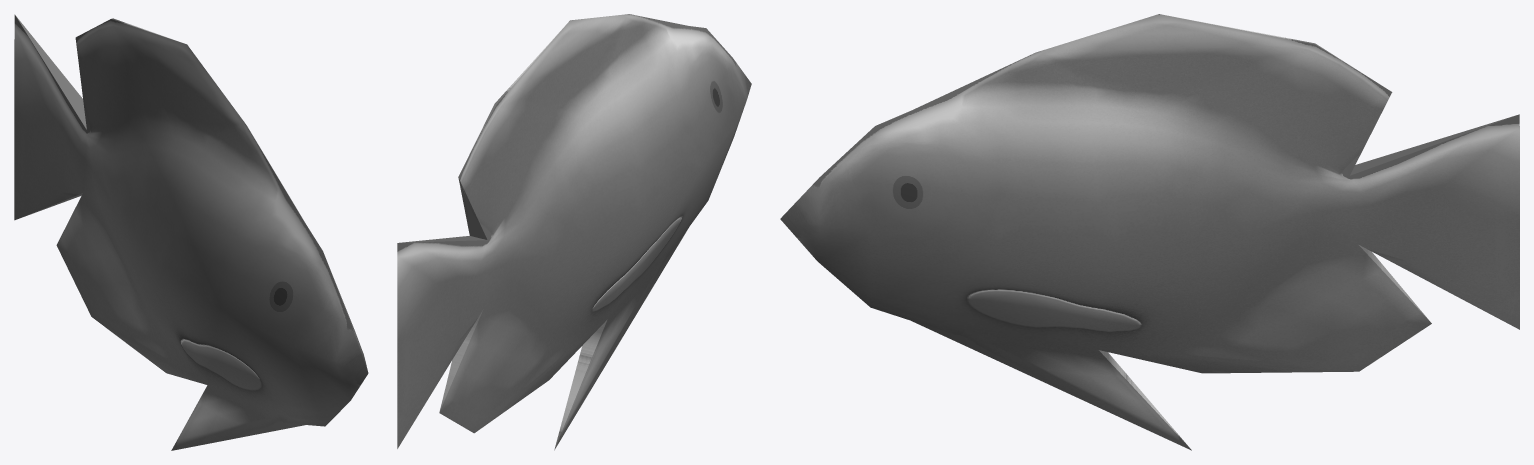
Rendered from FISH.fbx.
3 renders of one model, left to right at view 1: azimuth 30°, elevation 25°; view 2: azimuth 150°, elevation 25°; view 3: azimuth 270°, elevation 25°, orthographic. The views are drawn at different scales.
Visible parts, largest first — view 1: Fish 003; view 2: Fish 003; view 3: Fish 003.
Boxes of the visible parts, x1,y1,x2,y2 form: Fish 003: (14,14,368,450); Fish 003: (397,14,751,450); Fish 003: (780,14,1519,450).
Bounding box in the file's own units: 2.5 × 9.38 × 14.39.
